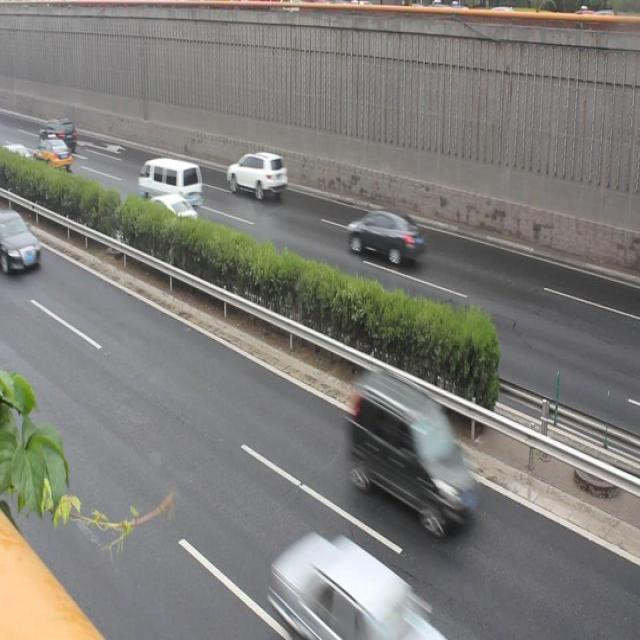car: (349, 371, 474, 530), (276, 532, 437, 640), (345, 206, 421, 266), (133, 193, 197, 243), (227, 148, 287, 199), (1, 205, 40, 271)
truck: (137, 158, 203, 208)
